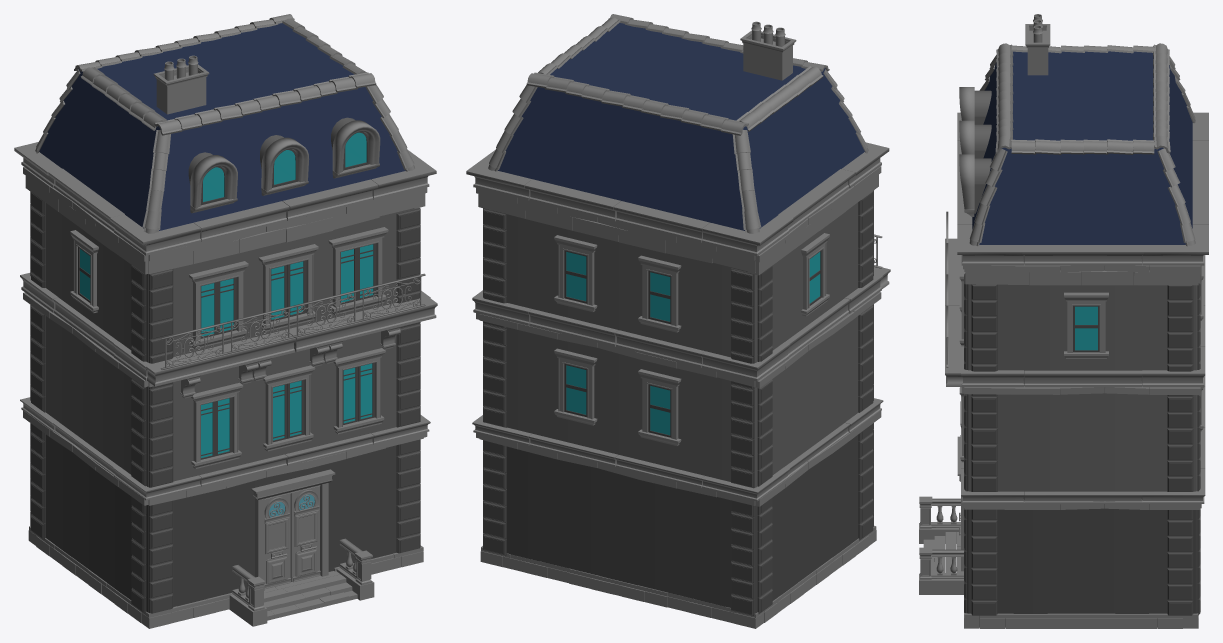
File: SM_building_apartment_01.fbx
3 views of the same model, side by side, from view 1: azimuth 30°, elevation 25°; view 2: azimuth 150°, elevation 25°; view 3: azimuth 270°, elevation 25° (orthographic). The views are drawn at different scales.
Parts seen in each view (by area): view 1: Box377; view 2: Box377; view 3: Box377.
Part boxes in pixels (x1=…): Box377: x1=14, y1=14, x2=437, y2=628; Box377: x1=466, y1=14, x2=890, y2=628; Box377: x1=919, y1=14, x2=1208, y2=628.
Size of the model in its own units: 351 by 600 by 309.
